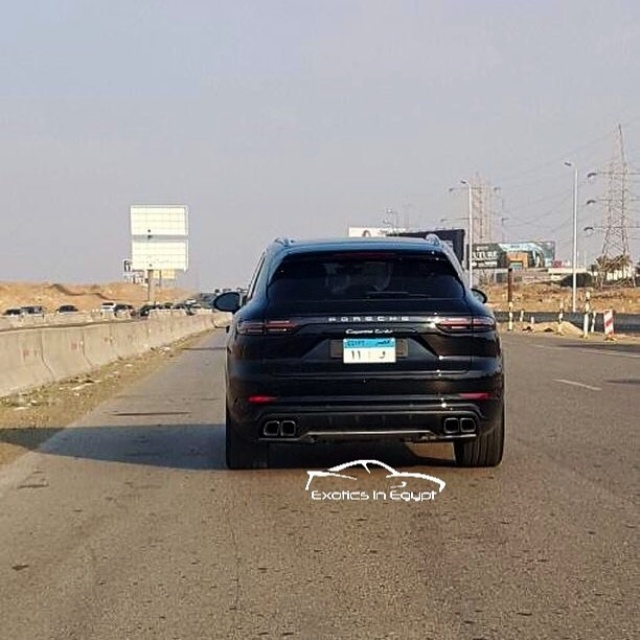License Plate: (341, 336, 397, 365)
